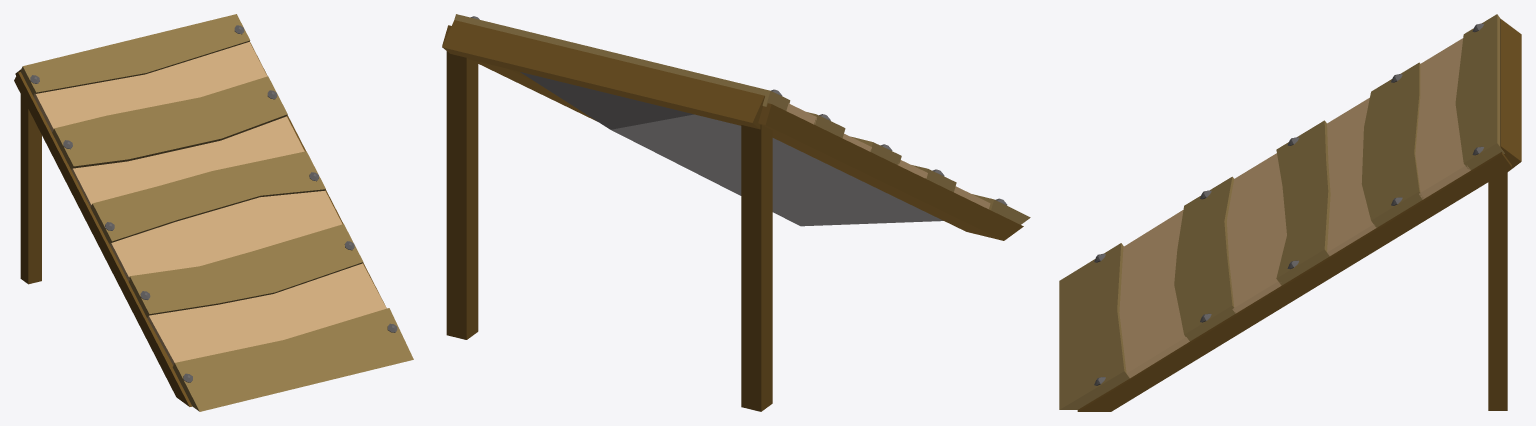
File: Mesh_wooden_ramp.fbx
The picture shows the model from 3 angles, left to right: view 1: azimuth 30°, elevation 25°; view 2: azimuth 150°, elevation 25°; view 3: azimuth 270°, elevation 25°; orthographic projection. The views are drawn at different scales.
Visible parts, largest first — view 1: wooden_ramp; view 2: wooden_ramp; view 3: wooden_ramp.
Part boxes in pixels (box(x1,y1,x2,y2)): wooden_ramp: box(14, 14, 413, 411); wooden_ramp: box(442, 14, 1030, 411); wooden_ramp: box(1059, 14, 1521, 411).
Size of the model in its own units: 540 by 507 by 795.
Materials: 1 (1 with a texture image).
